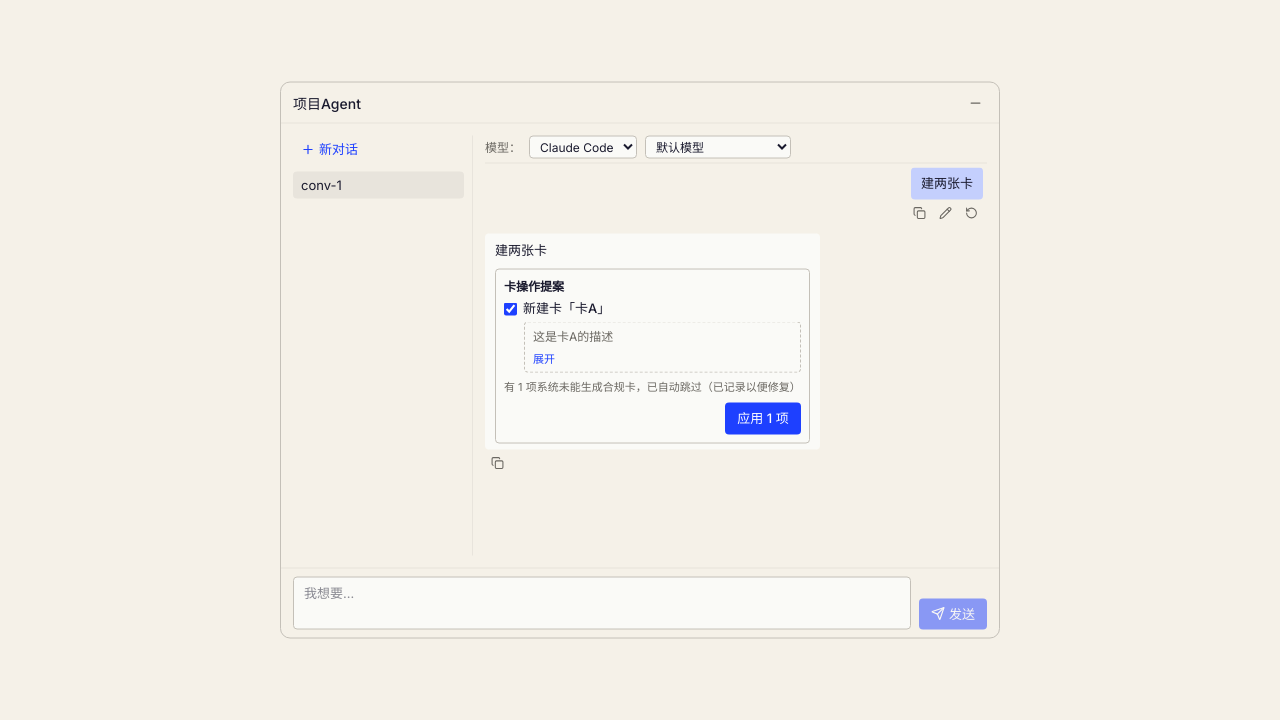
全局对话入口与面板 › 提案：非法卡静默丢弃只留合法、显示卡描述、可勾选、有跳过提示
Expected: the text "系统问题" is not shown
Expected: the text "这是卡A的描述" is shown, [533,328,613,343]
Note: 取消勾选卡A → 无勾选项 → 按钮仍在但禁用（提示用户去勾）
Click the checkbox labelled "新建卡「卡A」" at [510, 309], box [504,302,517,315]
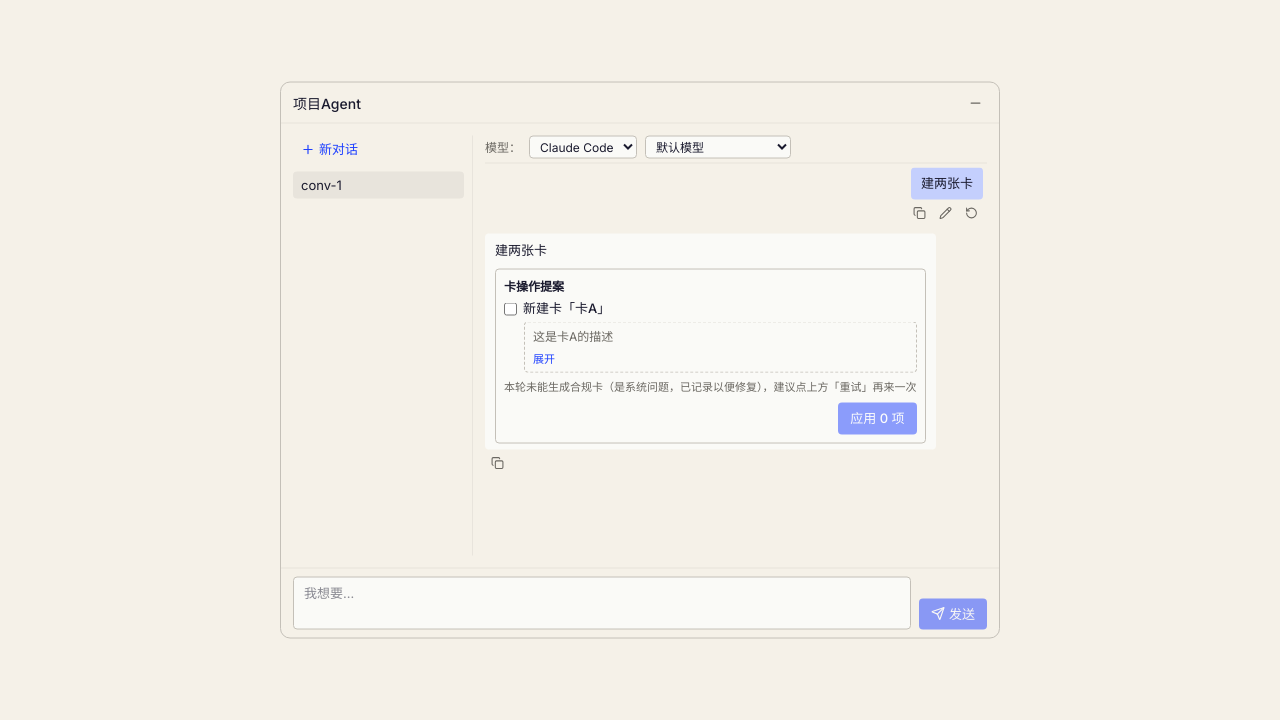
Expected: the button "应用 0 项" is disabled, [838,403,916,434]
